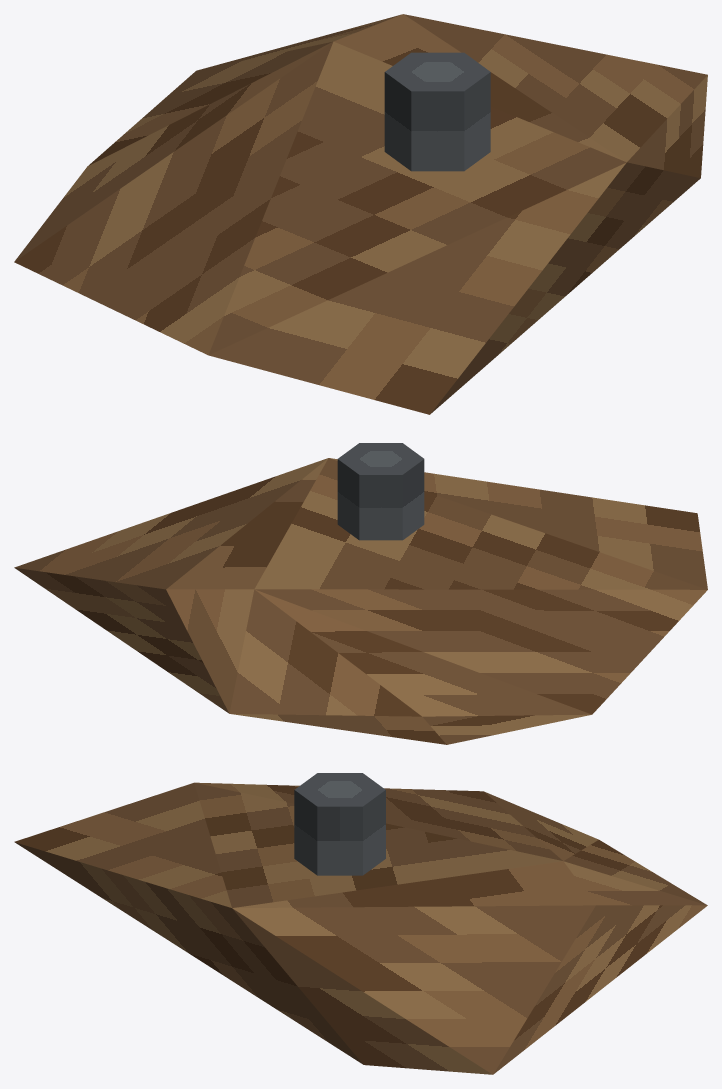
Rendered from tr_landmine_buried.glb.
The picture shows the model from 3 angles, top to bottom: view 1: azimuth 30°, elevation 25°; view 2: azimuth 150°, elevation 25°; view 3: azimuth 270°, elevation 25°; orthographic projection. The views are drawn at different scales.
Parts seen in each view (by area): view 1: block_mound, block_fuse tip; view 2: block_mound, block_fuse tip; view 3: block_mound, block_fuse tip.
Part boxes in pixels (x1=…): block_mound: x1=14, y1=14, x2=707, y2=414; block_fuse tip: x1=384, y1=52, x2=490, y2=171; block_mound: x1=14, y1=458, x2=707, y2=744; block_fuse tip: x1=337, y1=443, x2=424, y2=540; block_mound: x1=14, y1=782, x2=707, y2=1074; block_fuse tip: x1=294, y1=773, x2=385, y2=875.
Size of what is drawn, in the model's own units: 0.183 by 0.05 by 0.1823.
Materials: 2 (2 with a texture image).
